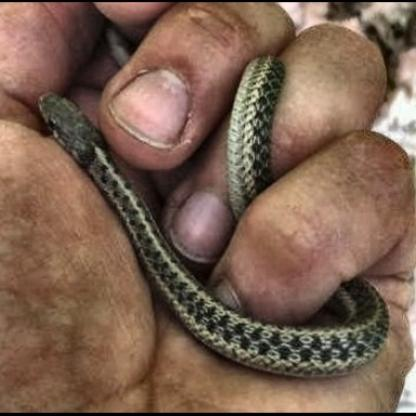Snake: (27, 41, 390, 378), (38, 77, 178, 251)
